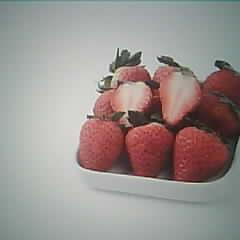straw-ripe: (174, 122, 230, 181), (127, 118, 172, 177), (80, 114, 125, 171)
